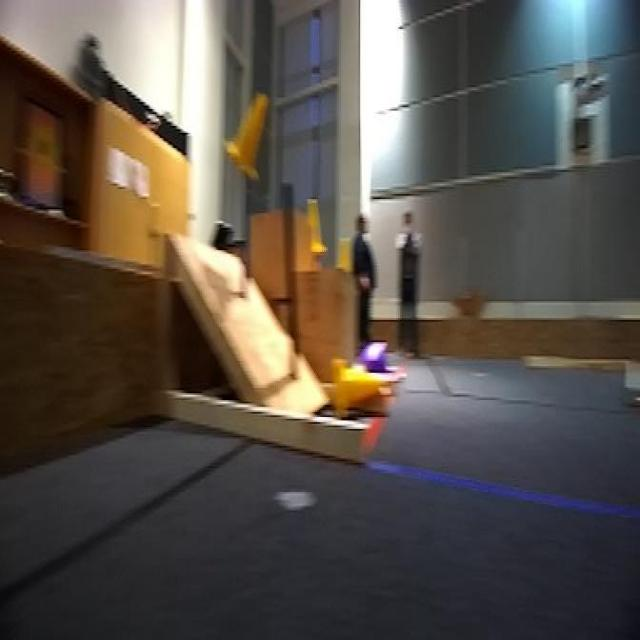frc_cone: (330, 352, 386, 422), (224, 90, 266, 177), (297, 190, 328, 260), (335, 232, 358, 274)
frc_cube: (362, 344, 391, 383)
